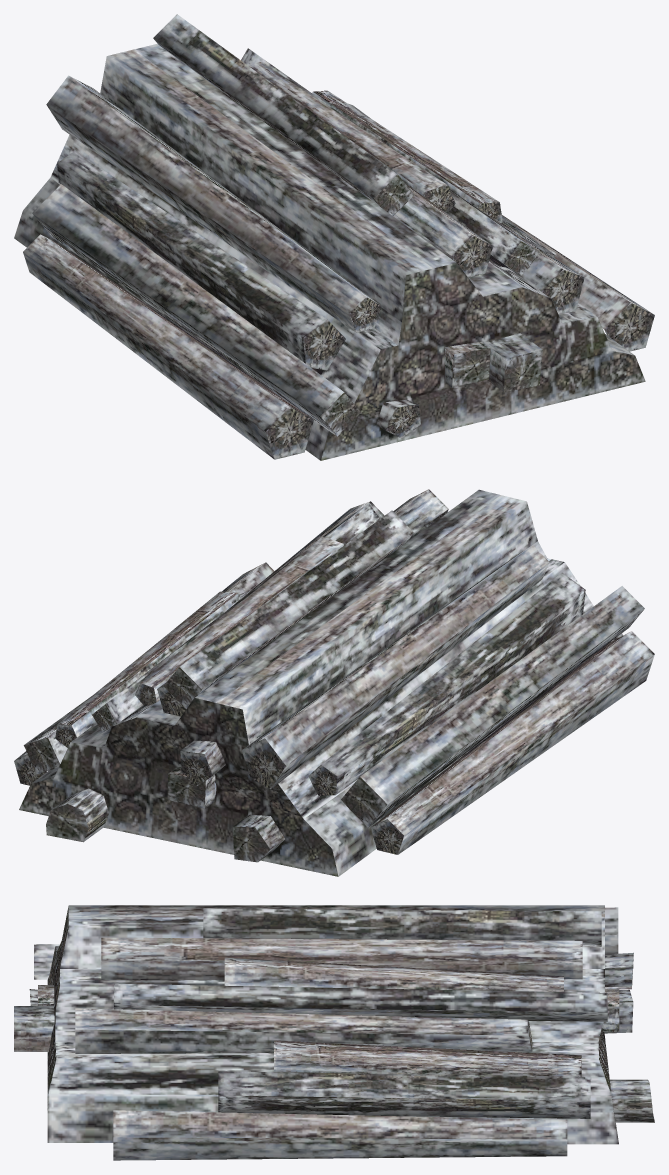
File: Item_03.FBX
3 renders of one model, top to bottom at view 1: azimuth 30°, elevation 25°; view 2: azimuth 150°, elevation 25°; view 3: azimuth 270°, elevation 25°, orthographic. The views are drawn at different scales.
Parts seen in each view (by area): view 1: item_03; view 2: item_03; view 3: item_03.
Part boxes in pixels (x1=…): item_03: x1=14, y1=14, x2=654, y2=460; item_03: x1=14, y1=489, x2=654, y2=876; item_03: x1=14, y1=905, x2=654, y2=1160.
Bounding box in the file's own units: 273 × 117 × 411.
